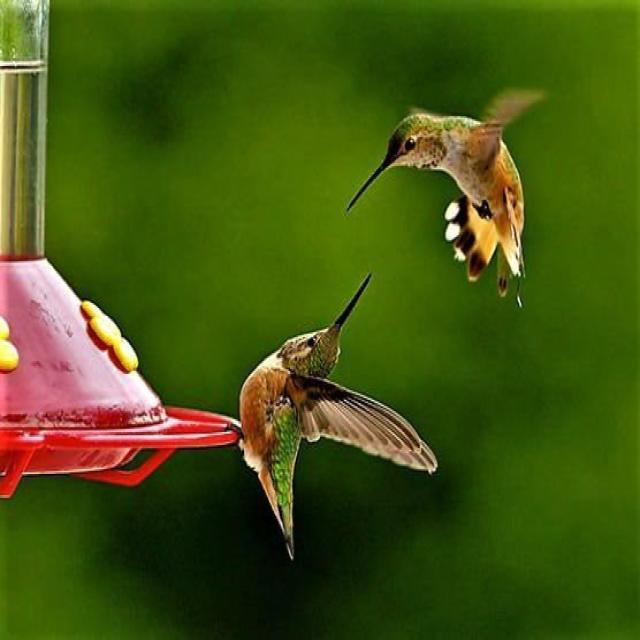Humming Bird: (345, 80, 549, 294), (234, 272, 374, 552)
